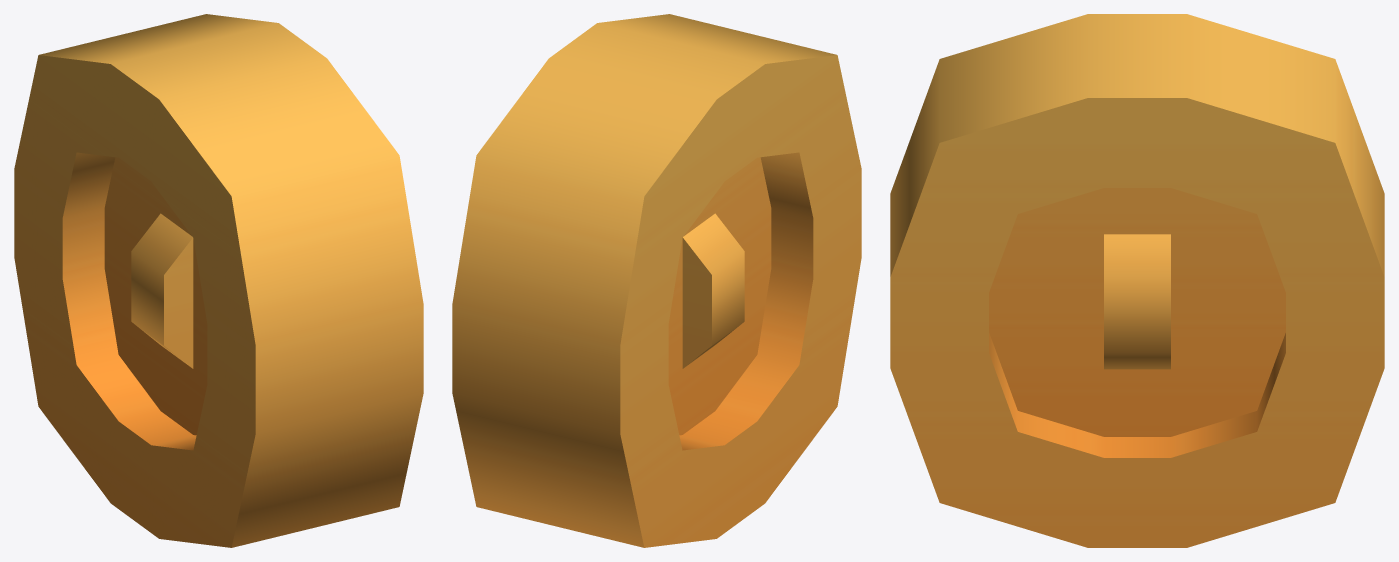
Rendered from coin.fbx.
3 renders of one model, left to right at view 1: azimuth 30°, elevation 25°; view 2: azimuth 150°, elevation 25°; view 3: azimuth 270°, elevation 25°, orthographic. The views are drawn at different scales.
Parts seen in each view (by area): view 1: coin; view 2: coin; view 3: coin.
Boxes of the visible parts, <box> form: coin: <box>14,14,423,547</box>; coin: <box>452,14,861,547</box>; coin: <box>890,14,1384,547</box>.
Size of the model in its own units: 11.08 by 27.71 by 27.6.
